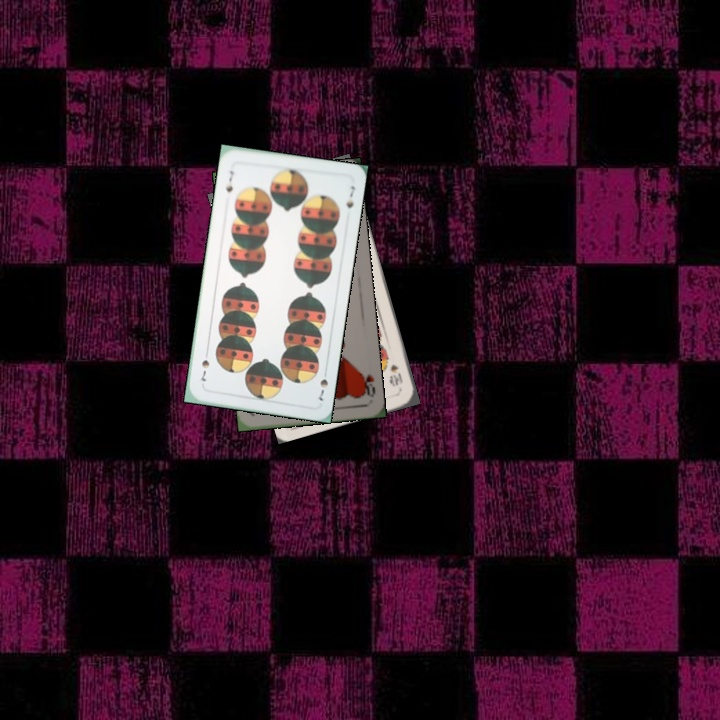HO: (357, 369, 378, 399)
S10: (386, 360, 405, 393)
S7: (315, 365, 330, 403), (222, 167, 236, 195)
